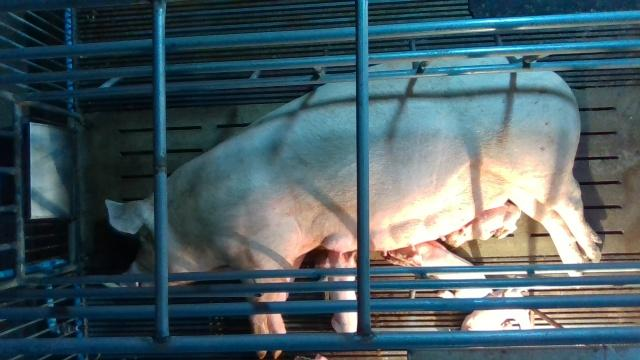piglet: (385, 241, 492, 297), (444, 202, 520, 249), (317, 248, 358, 334), (459, 288, 532, 332)
sow-sleep-lactate: (105, 58, 602, 359)
